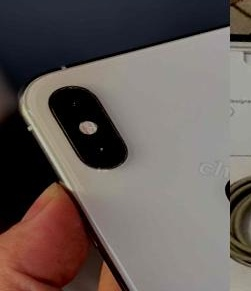scratch: (91, 162, 130, 176), (55, 78, 84, 96)
